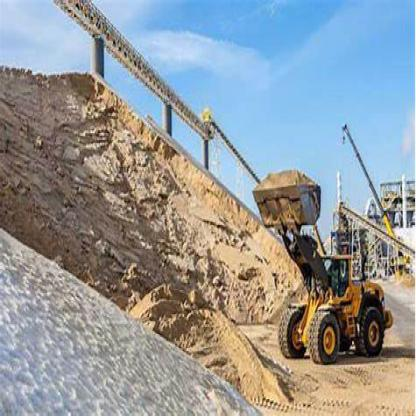bull_dozer/loader/grader: (252, 157, 393, 364)
